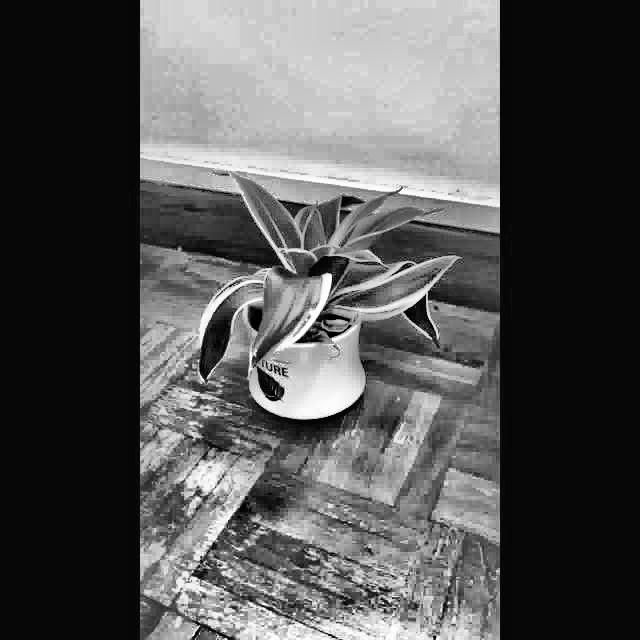plants: (189, 157, 472, 434)
